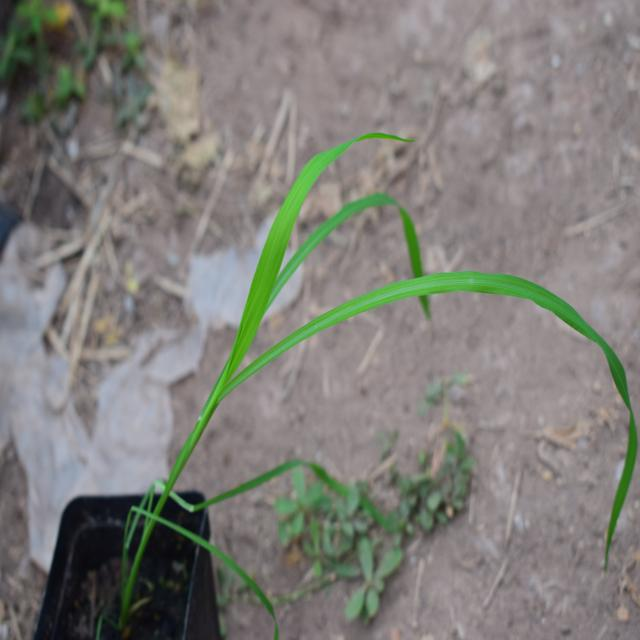barnyard_grass: (170, 129, 628, 515)
